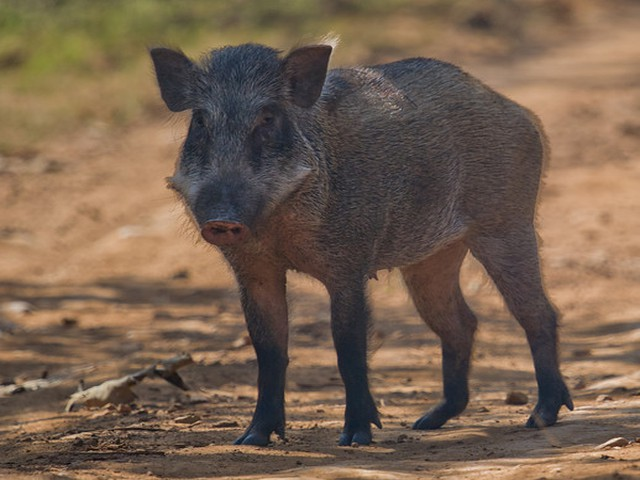Pig: (147, 43, 587, 432)
